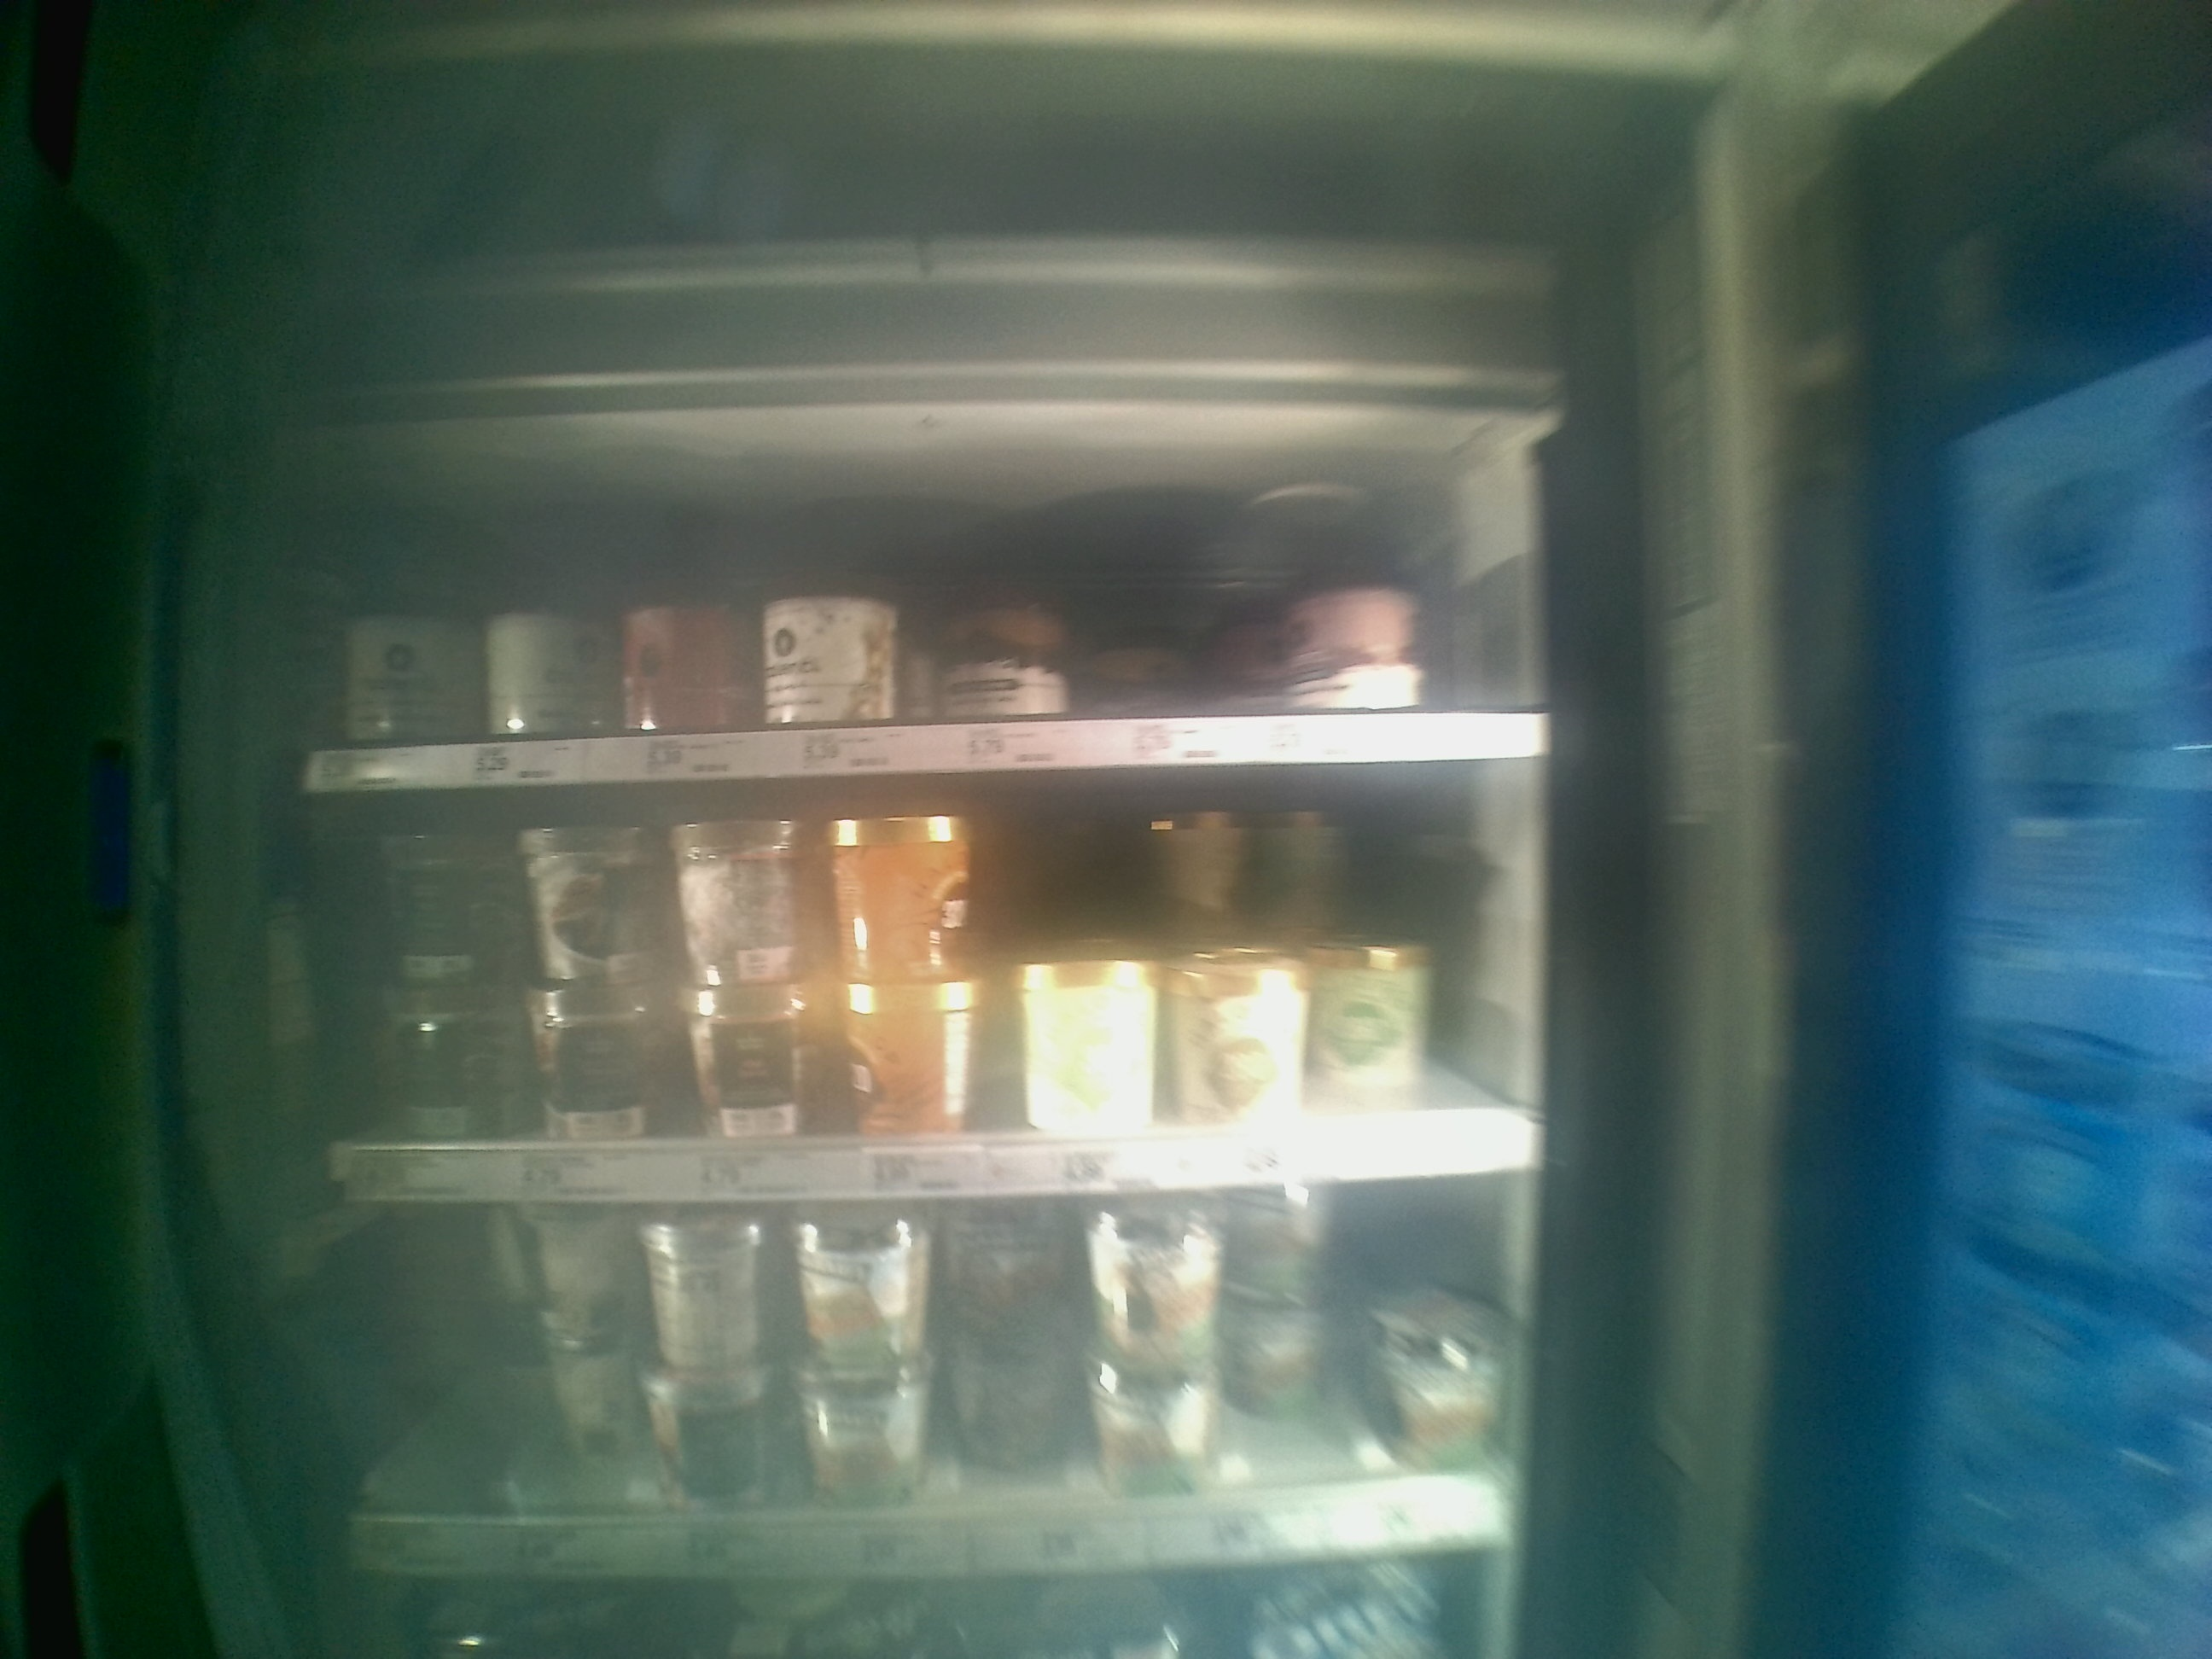shelf: (308, 788, 1561, 1202), (315, 1201, 1529, 1579), (303, 455, 1548, 788)
